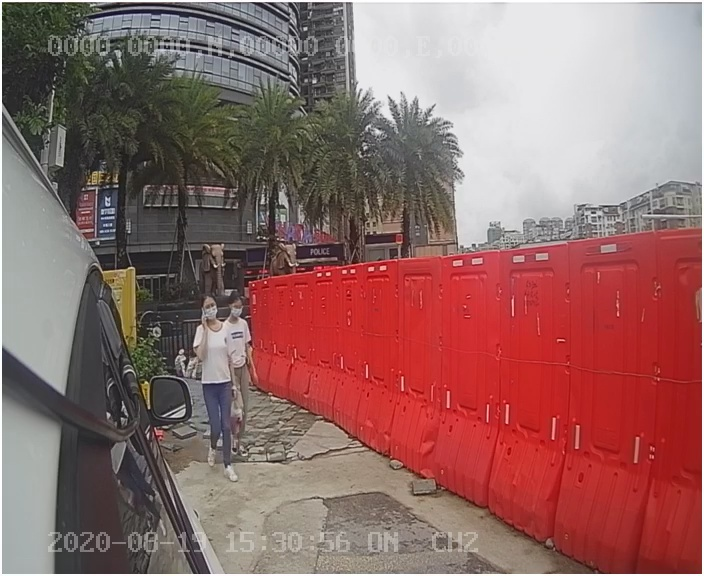person: (187, 292, 258, 485)
